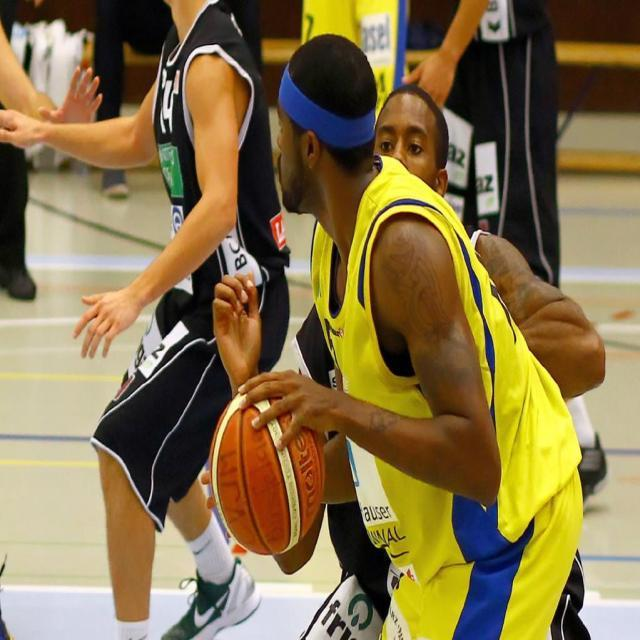rim: (218, 390, 324, 556)
